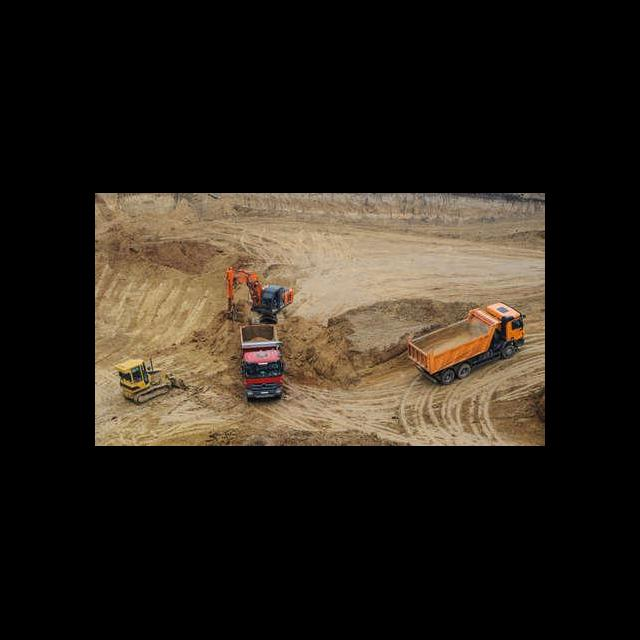Excavator: (223, 265, 294, 324)
dump truck: (402, 298, 529, 388), (235, 322, 289, 404)
wheel loader: (117, 358, 189, 404)
